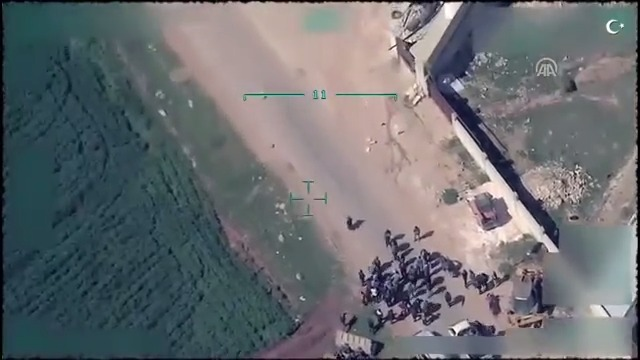insan: (441, 288, 459, 310), (410, 220, 425, 243), (382, 228, 396, 249), (358, 265, 368, 284)
